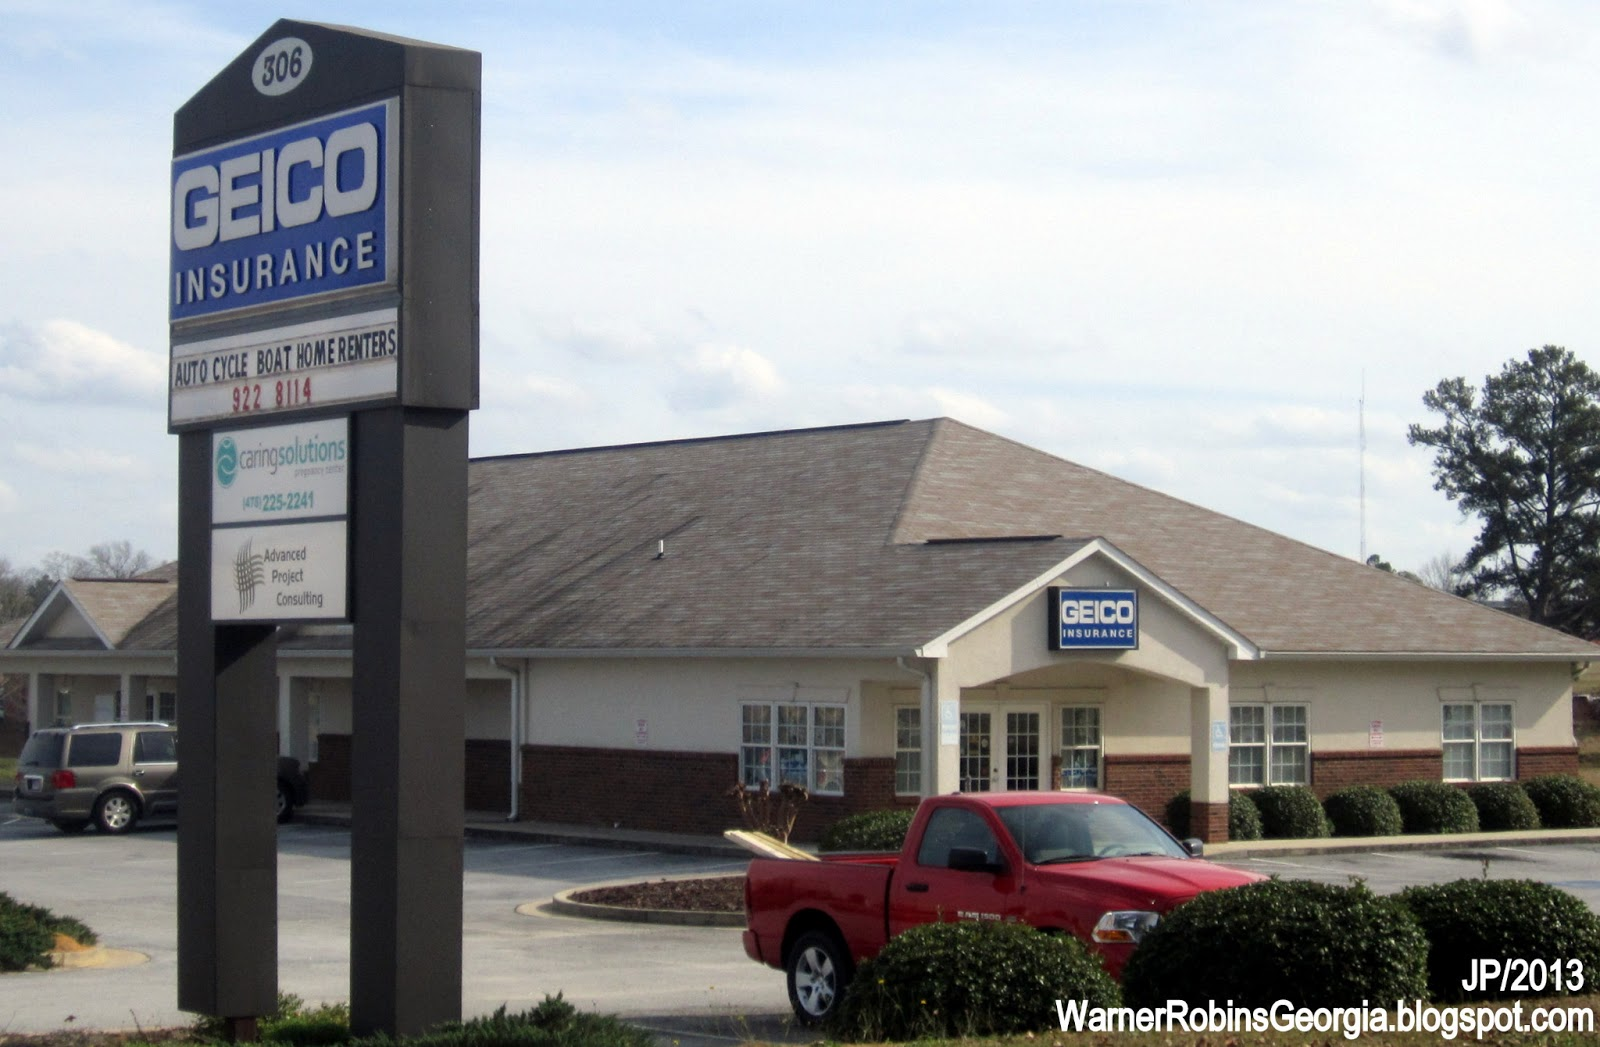Geico: (169, 129, 397, 244), (1055, 583, 1138, 637)
